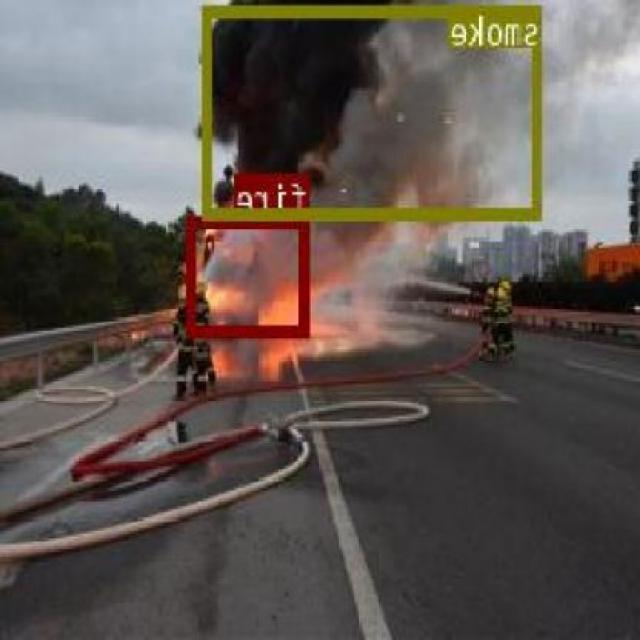Fire: (188, 216, 312, 336)
Smoke: (204, 3, 544, 219)
